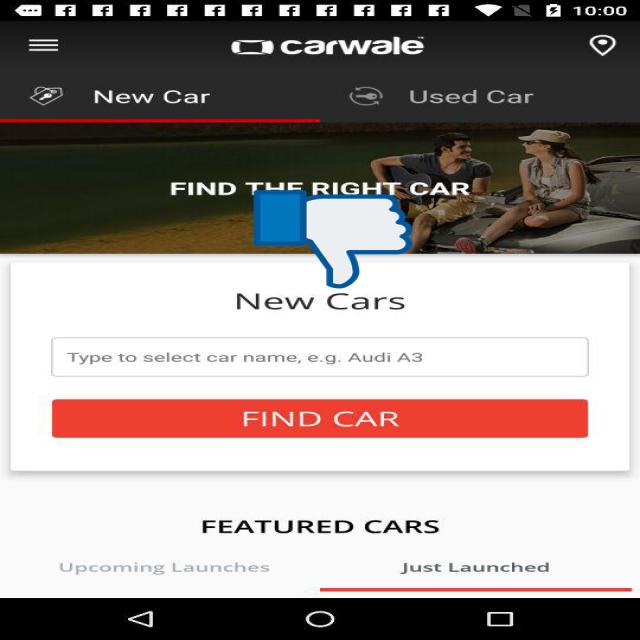obstruction: (253, 188, 412, 291)
